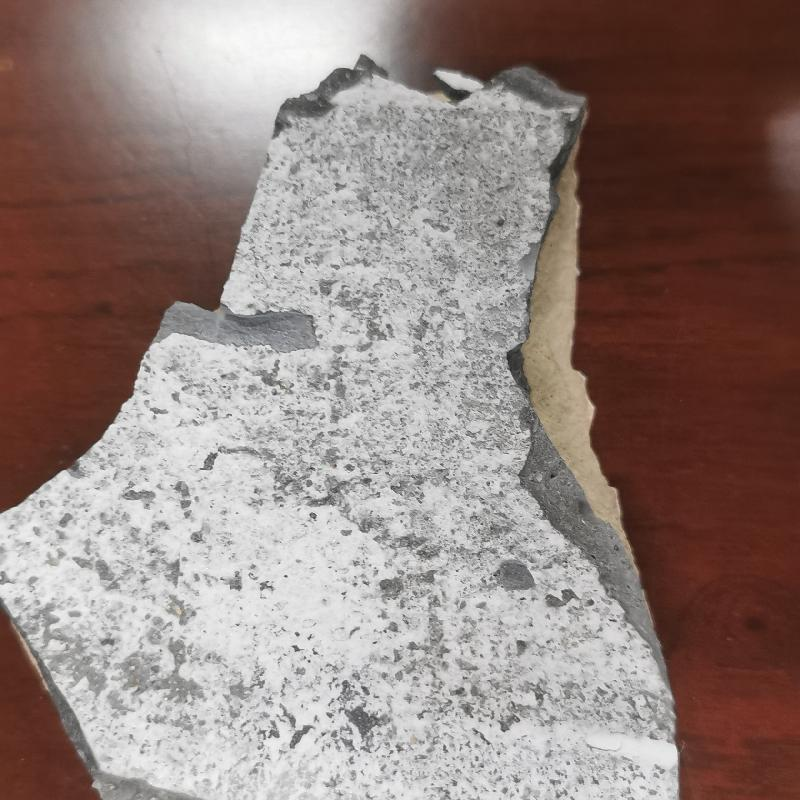tile: (0, 42, 683, 800)
